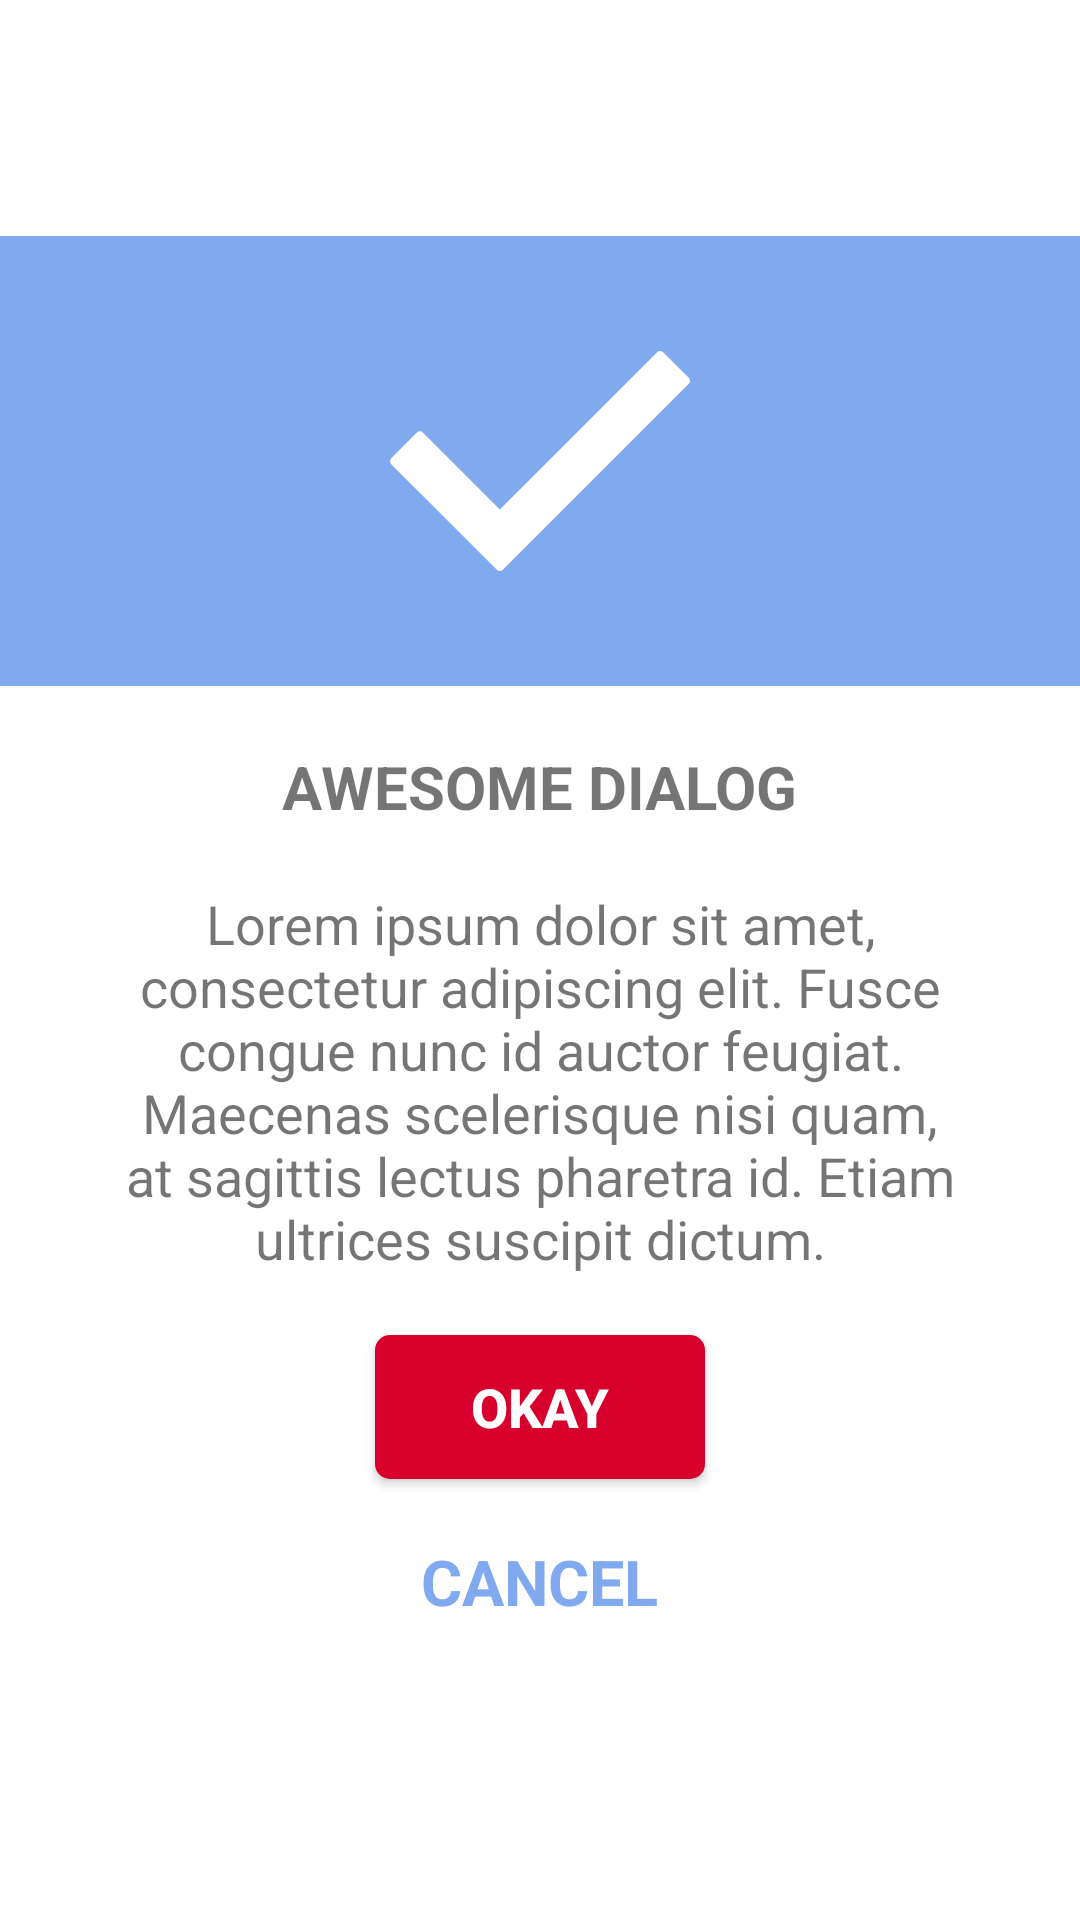

Icon bounding boxes for this 1080 x 1920 phone screenshot, format [left=x1, top=y1, right=x2, bottom=y2]:
correct: [left=390, top=351, right=690, bottom=571]
